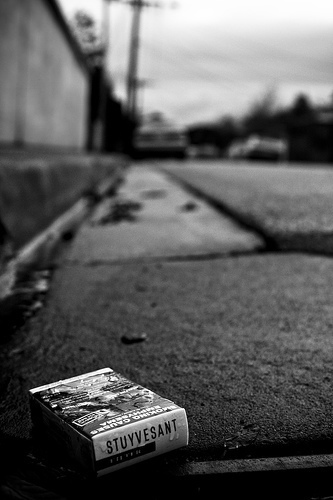litter: (26, 365, 191, 477)
